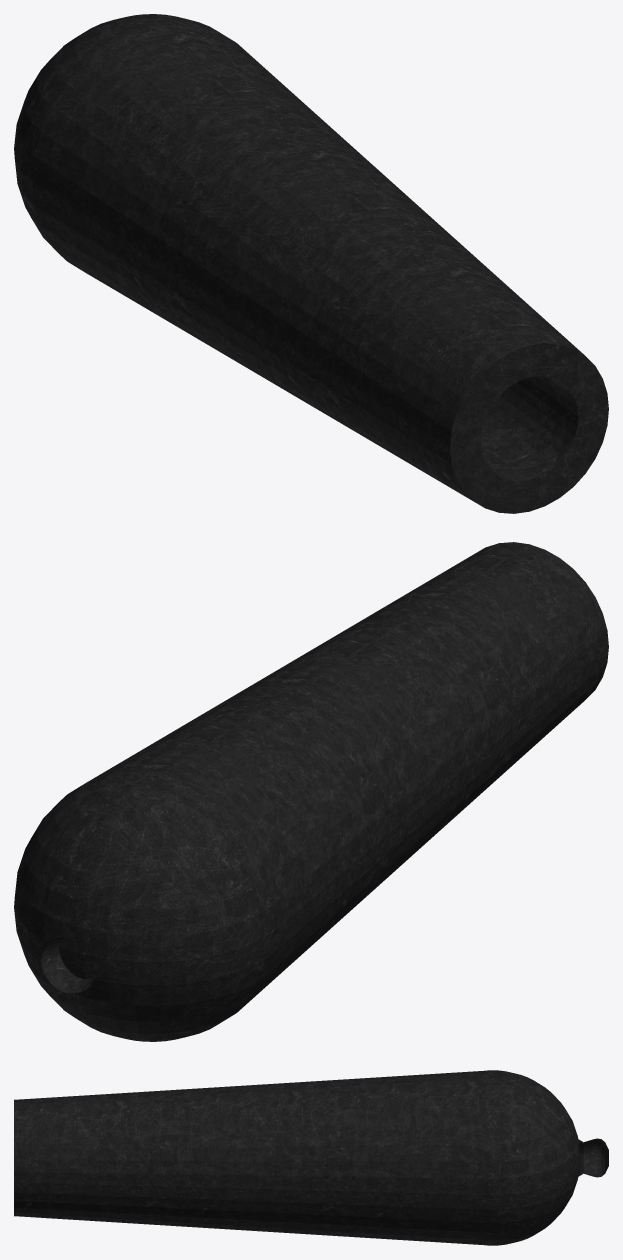
The model's file is Cannon.dae.
3 views of the same model, one above another, from view 1: azimuth 30°, elevation 25°; view 2: azimuth 150°, elevation 25°; view 3: azimuth 270°, elevation 25° (orthographic). The views are drawn at different scales.
Parts seen in each view (by area): view 1: Cannon-col; view 2: Cannon-col; view 3: Cannon-col.
Boxes of the visible parts, x1=… form: Cannon-col: x1=14, y1=14, x2=608, y2=513; Cannon-col: x1=14, y1=542, x2=608, y2=1041; Cannon-col: x1=14, y1=1070, x2=608, y2=1245.
Bounding box in the file's own units: 2 × 6.78 × 2.
1 material, 1 textured.
